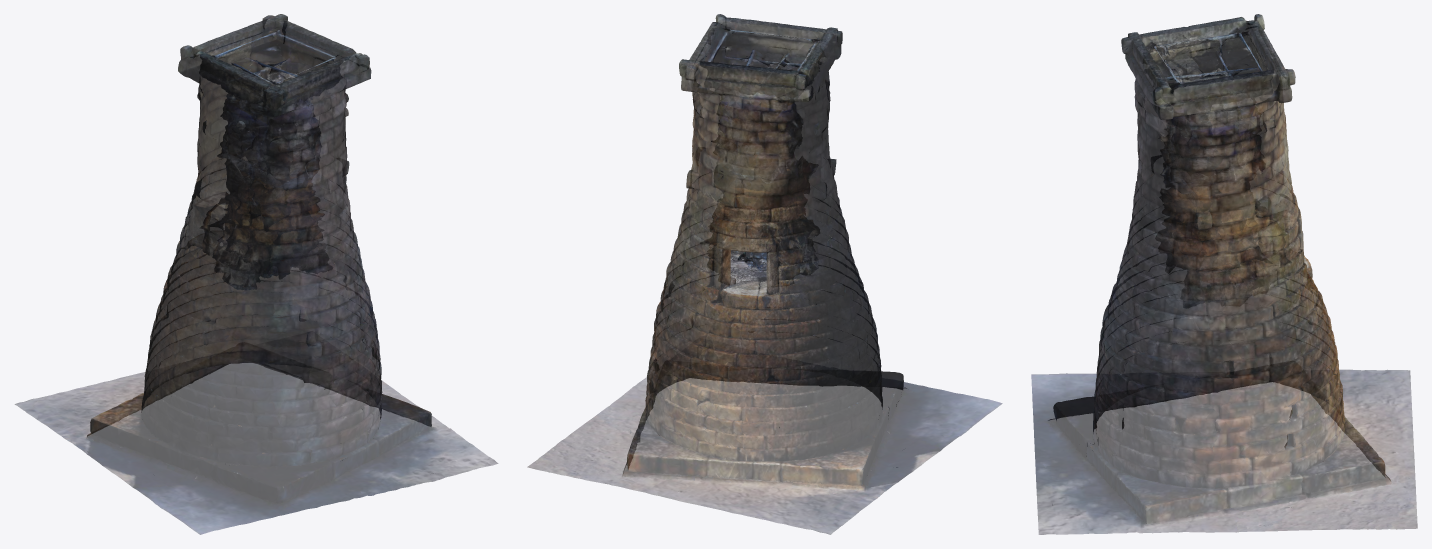
File: cheomseongdae-v1.glb
The picture shows the model from 3 angles, left to right: view 1: azimuth 30°, elevation 25°; view 2: azimuth 150°, elevation 25°; view 3: azimuth 270°, elevation 25°; orthographic projection. The views are drawn at different scales.
Parts seen in each view (by area): view 1: NT31_Cheomseongdae Observatory, Gyeongju_low; view 2: NT31_Cheomseongdae Observatory, Gyeongju_low; view 3: NT31_Cheomseongdae Observatory, Gyeongju_low.
Part boxes in pixels (bbox=[...]): NT31_Cheomseongdae Observatory, Gyeongju_low: bbox=[15, 14, 498, 534]; NT31_Cheomseongdae Observatory, Gyeongju_low: bbox=[527, 14, 1002, 534]; NT31_Cheomseongdae Observatory, Gyeongju_low: bbox=[1031, 14, 1417, 534].
Size of the model in its own units: 1.64 by 2 by 1.69.
Materials: 1 (1 with a texture image).
